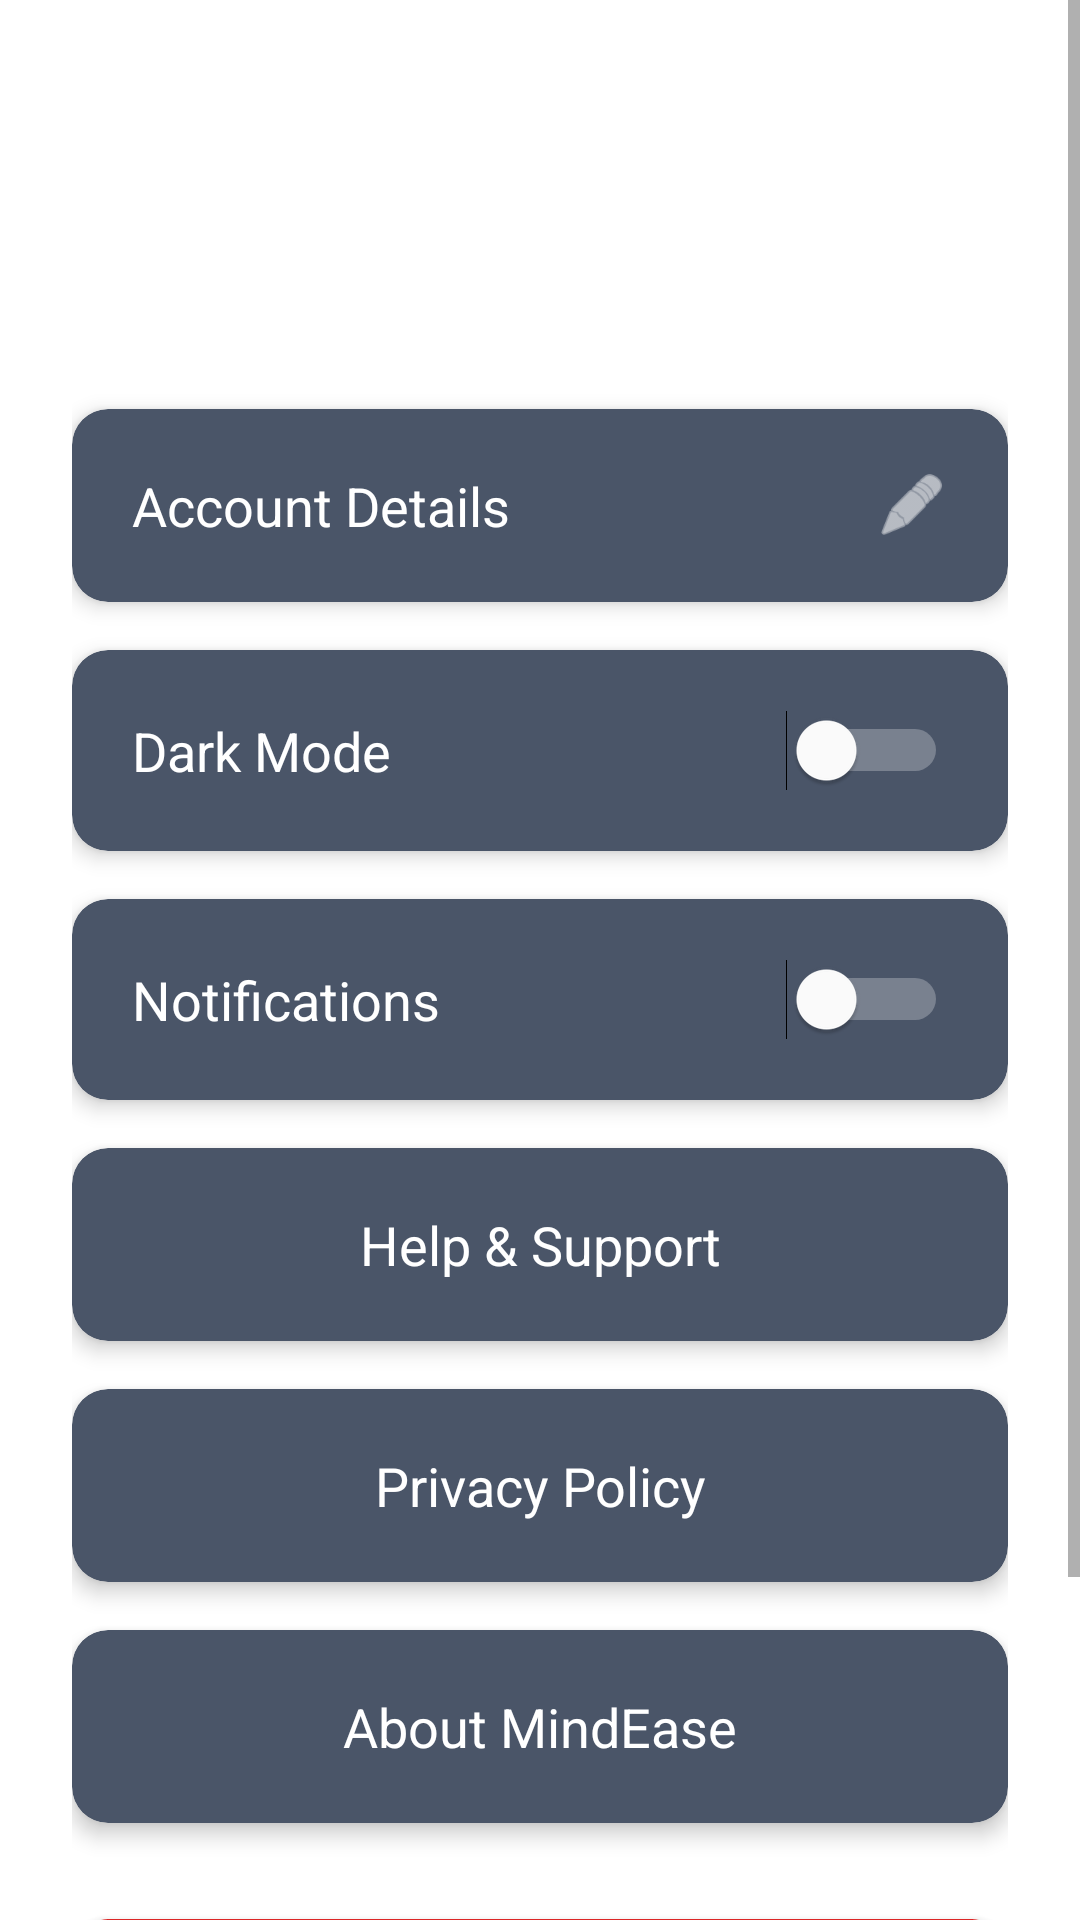

Where to tap for icons on this 1080px x 1920px app screen, as point (x, y):
edit: point (911, 504)
